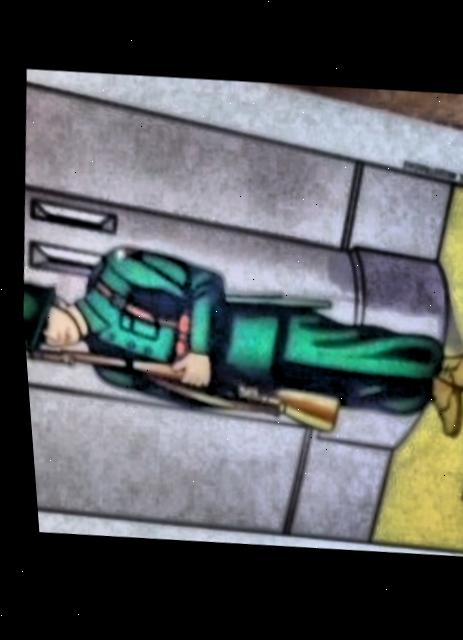El Soldado: (18, 82, 463, 557)
